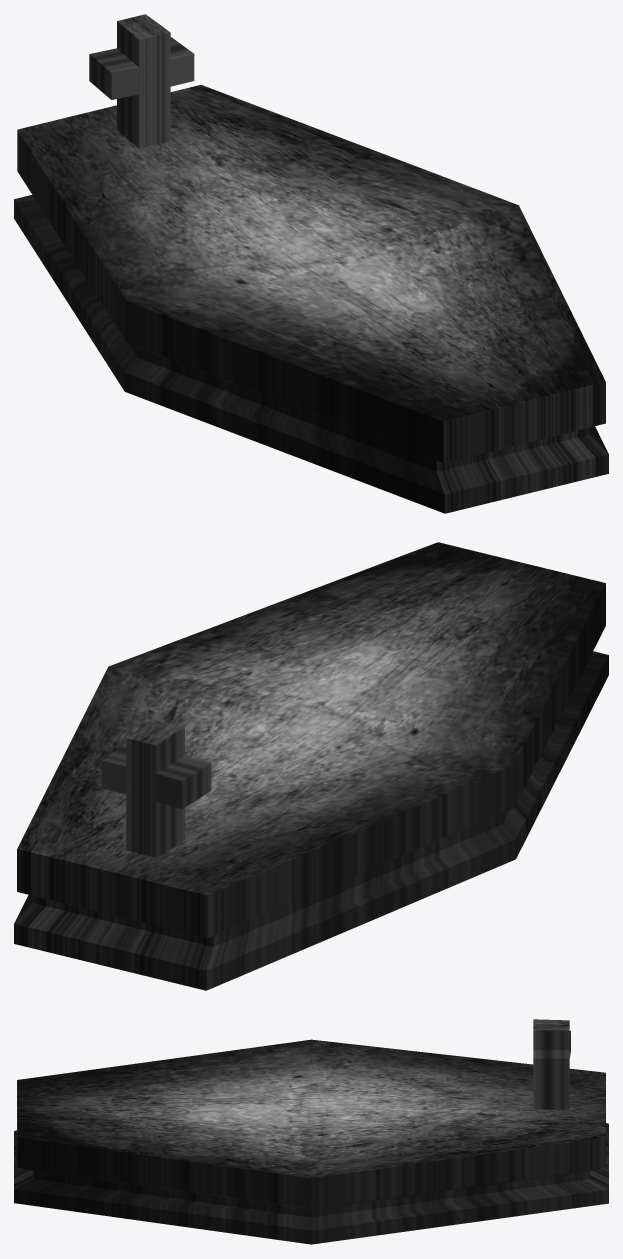
The model's file is tomb1 1.fbx.
The picture shows the model from 3 angles, top to bottom: view 1: azimuth 30°, elevation 25°; view 2: azimuth 150°, elevation 25°; view 3: azimuth 270°, elevation 25°; orthographic projection. The views are drawn at different scales.
Visible parts, largest first — view 1: Plane; view 2: Plane; view 3: Plane.
Part boxes in pixels (left/top/right/bottom): Plane: left=14, top=14, right=608, bottom=513; Plane: left=14, top=542, right=608, bottom=990; Plane: left=14, top=1019, right=608, bottom=1244.
Bounding box in the file's own units: 404 × 194 × 724.
